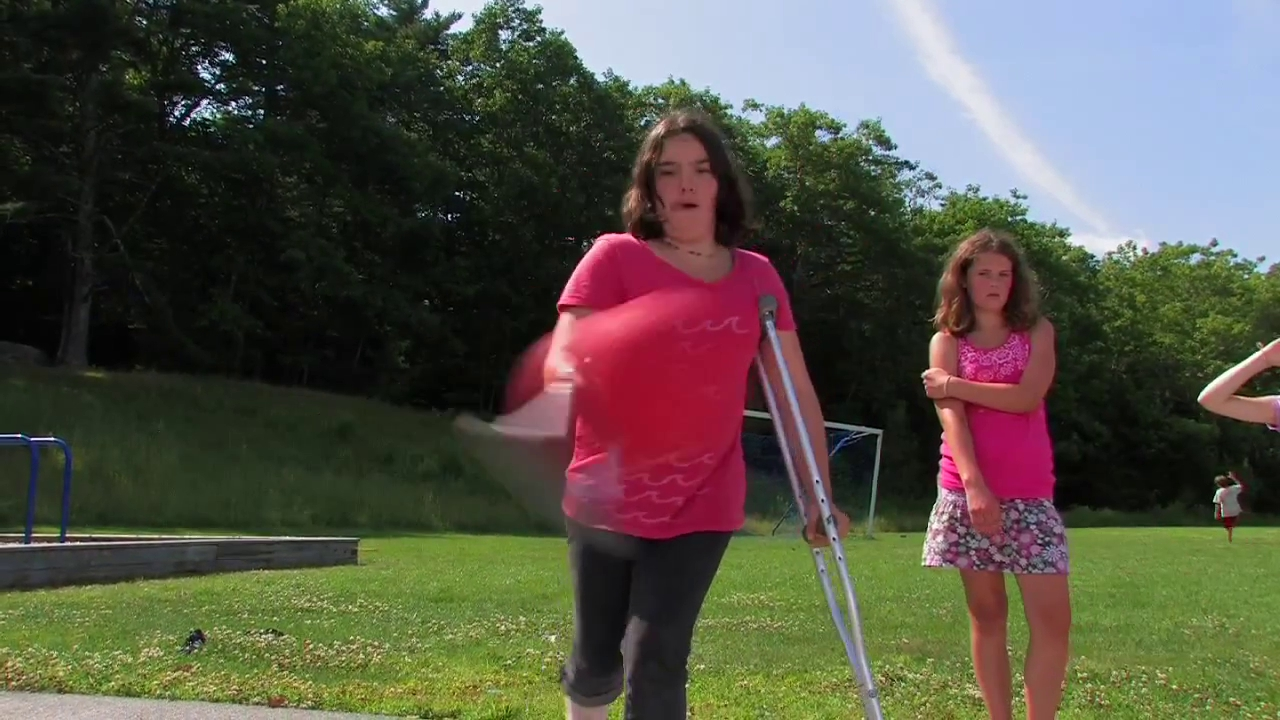person: (547, 112, 850, 719), (922, 227, 1072, 718)
